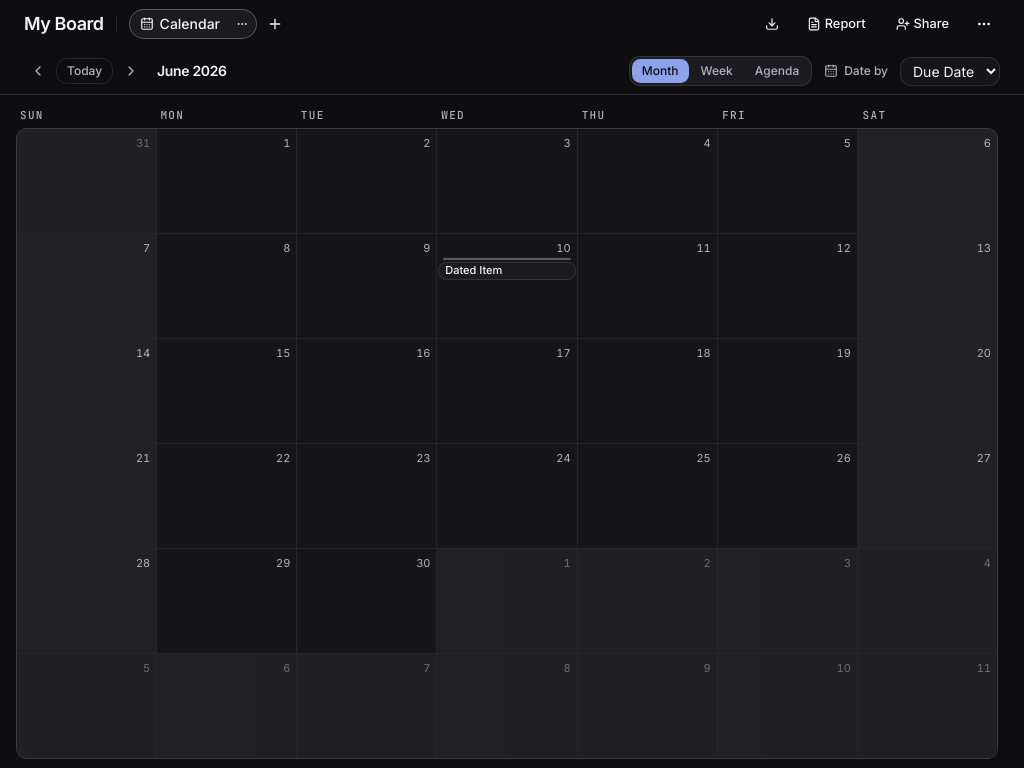
CalendarBoard date column (B3: instant re-layout, background persist) › re-lays the grid instantly and persists without a router.refresh
Expected: the text "Dated Item" is shown, [445, 262, 502, 279]
Step 1. Select "Kickoff" in the dropdown named "date column" → point(950, 71), box [900, 56, 1000, 86]
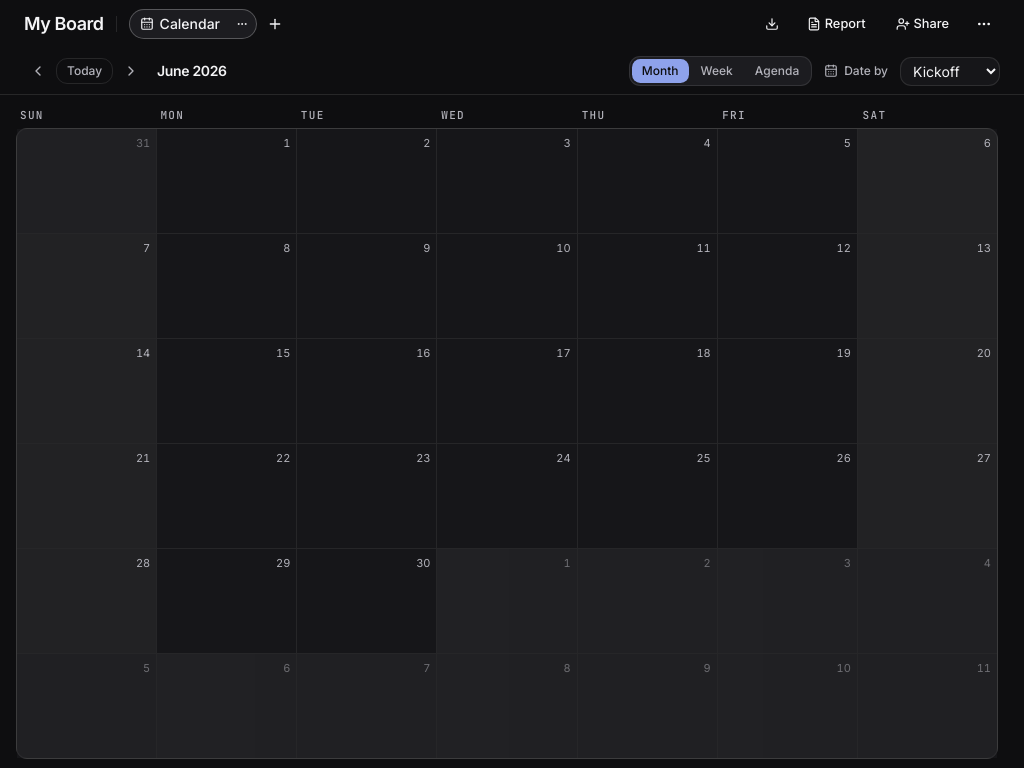
Expected: the button "Dated Item" is gone
